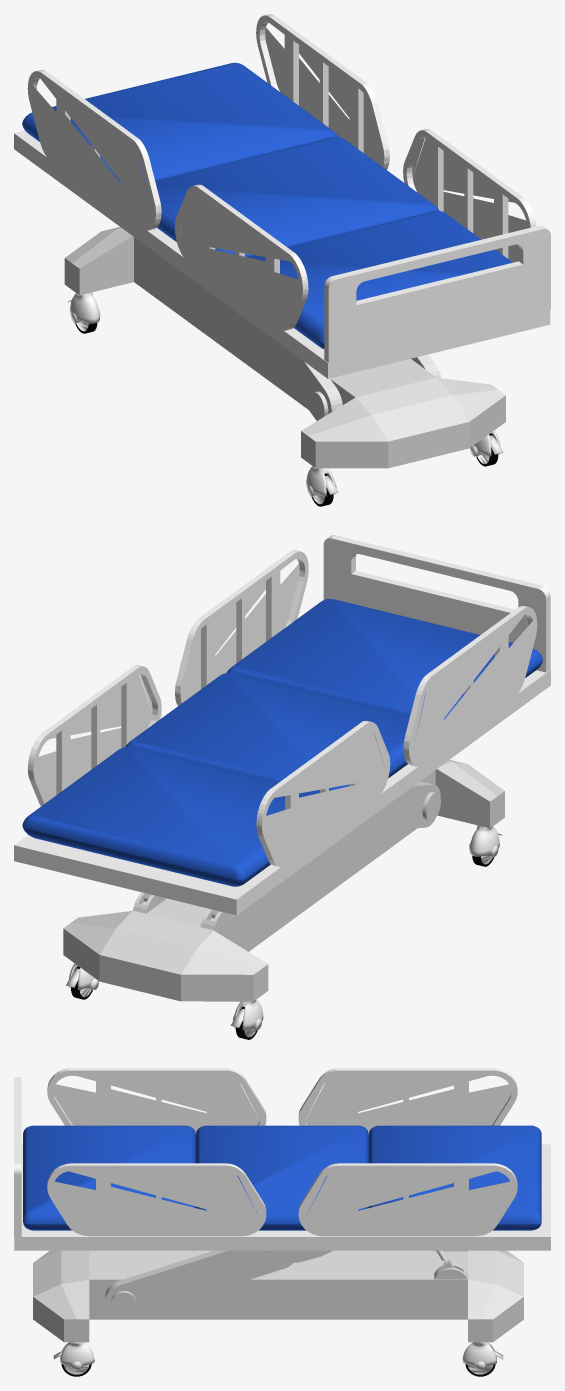
3 renders of one model, top to bottom at view 1: azimuth 30°, elevation 25°; view 2: azimuth 150°, elevation 25°; view 3: azimuth 270°, elevation 25°, orthographic. The views are drawn at different scales.
Parts seen in each view (by area): view 1: CC-24; view 2: CC-24; view 3: CC-24.
Boxes of the visible parts, x1,y1,x2,y2 form: CC-24: [14, 14, 550, 506]; CC-24: [14, 535, 550, 1039]; CC-24: [14, 1068, 550, 1376].
Size of the model in its own units: 75.01 by 80.14 by 175.
